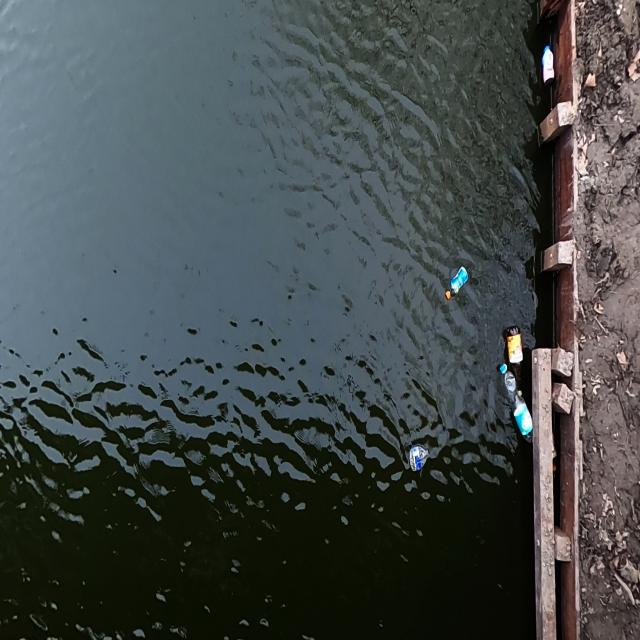Bouteille plastique: (494, 354, 534, 454), (497, 317, 526, 402), (442, 258, 471, 306), (537, 36, 559, 89), (406, 441, 434, 479)
